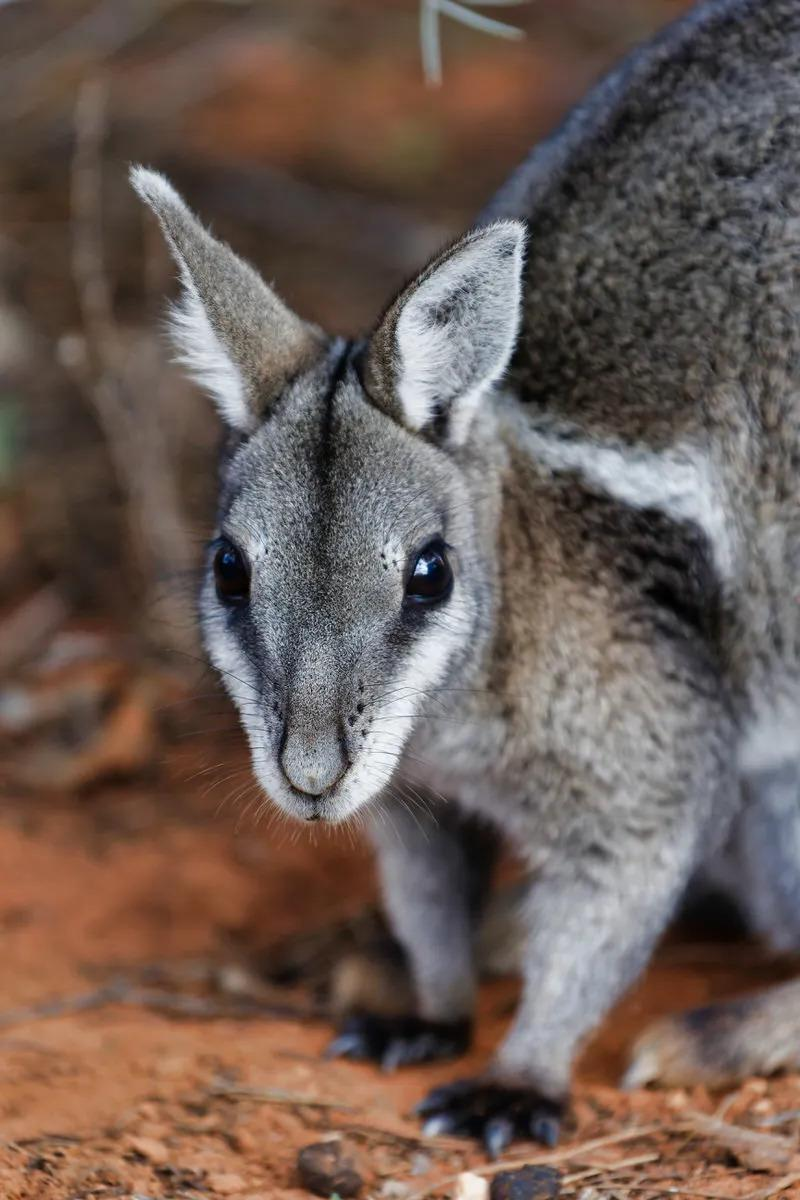Bridled-nail-tail wallaby: (123, 0, 800, 1165)
